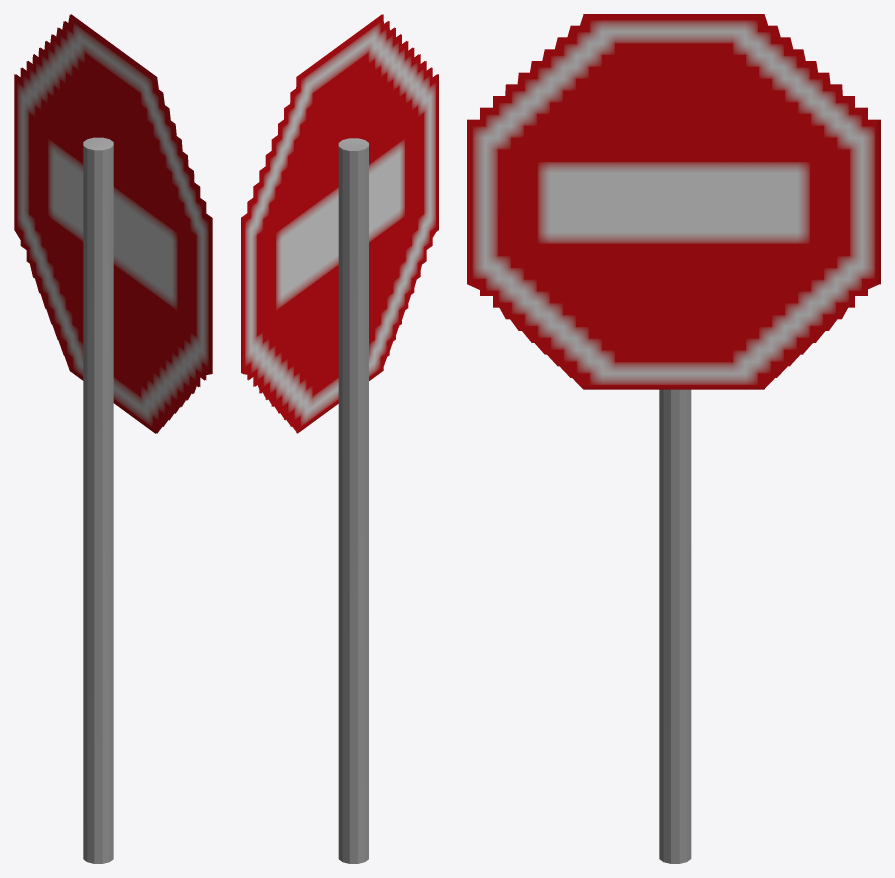
File: stop.fbx
3 views of the same model, side by side, from view 1: azimuth 30°, elevation 25°; view 2: azimuth 150°, elevation 25°; view 3: azimuth 270°, elevation 25° (orthographic). The views are drawn at different scales.
Parts seen in each view (by area): view 1: Plane.002; view 2: Plane.002; view 3: Plane.002.
Part boxes in pixels (x1,y1,x2,y2): Plane.002: (14,14,212,863); Plane.002: (241,14,438,863); Plane.002: (467,14,880,863).
Bounding box in the file's own units: 16.55 × 453 × 200.
